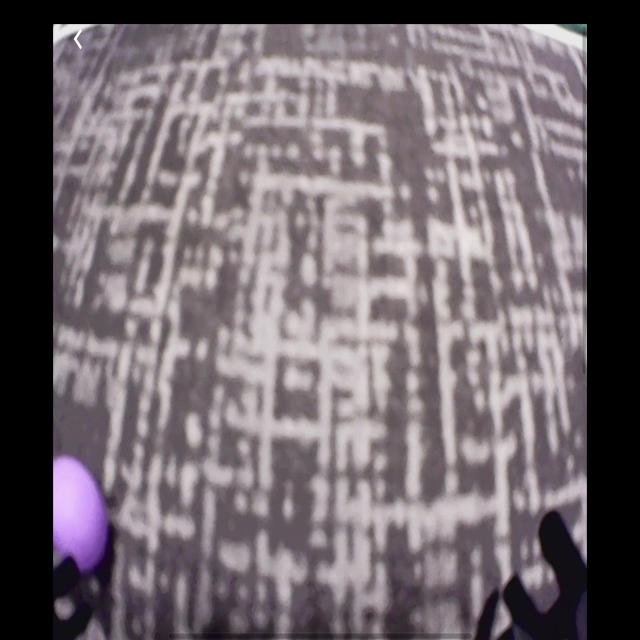ball: (54, 455, 110, 586)
